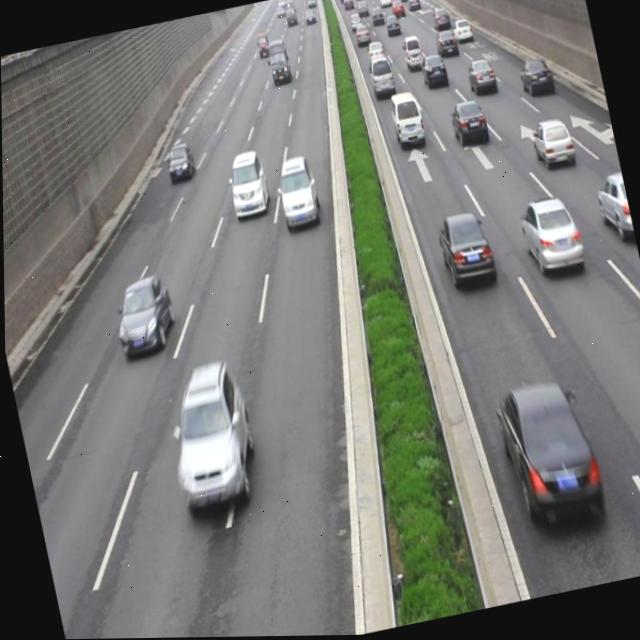car: (489, 371, 605, 535), (157, 359, 263, 518), (513, 192, 585, 283), (108, 275, 178, 356), (432, 207, 496, 292), (272, 154, 319, 228), (223, 150, 272, 220), (591, 172, 635, 246), (386, 92, 426, 154), (527, 119, 574, 167), (446, 99, 489, 149), (515, 59, 554, 102), (161, 139, 197, 185), (364, 53, 396, 100), (464, 59, 497, 98), (418, 52, 449, 89)
